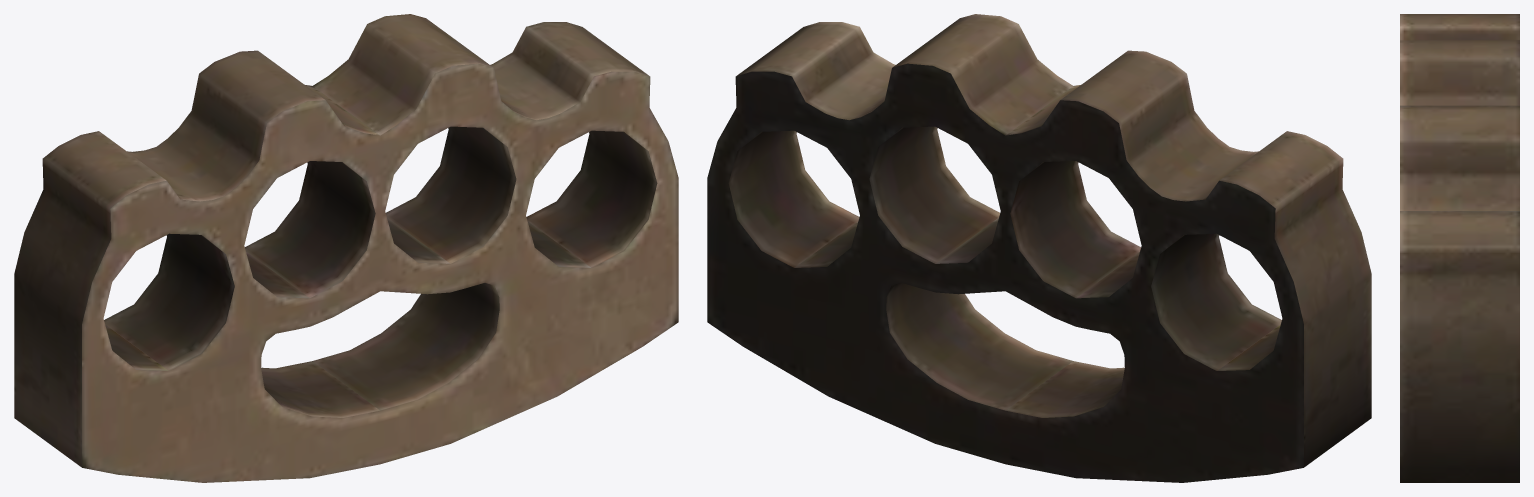
The model's file is BrassKnuckle.obj.
3 views of the same model, side by side, from view 1: azimuth 30°, elevation 25°; view 2: azimuth 150°, elevation 25°; view 3: azimuth 270°, elevation 25° (orthographic). The views are drawn at different scales.
Parts seen in each view (by area): view 1: brassknuckle; view 2: brassknuckle; view 3: brassknuckle.
Part boxes in pixels (x1=…): brassknuckle: x1=14, y1=14, x2=678, y2=482; brassknuckle: x1=707, y1=14, x2=1371, y2=482; brassknuckle: x1=1400, y1=14, x2=1519, y2=482.
Size of the model in its own units: 0.0976 by 0.0595 by 0.0192.
Materials: 1 (1 with a texture image).
